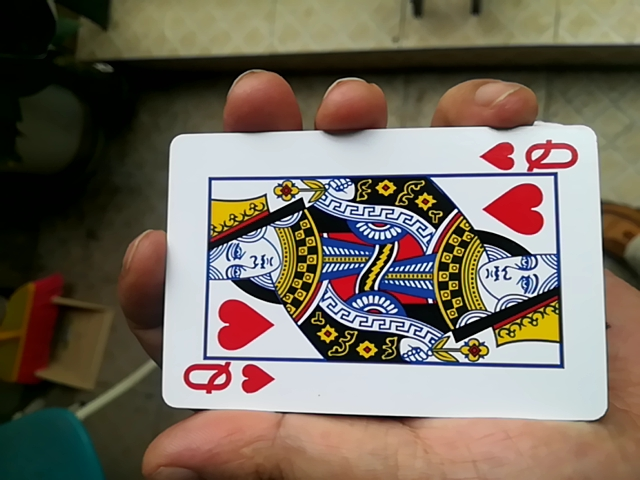hx q: (147, 121, 606, 425)
